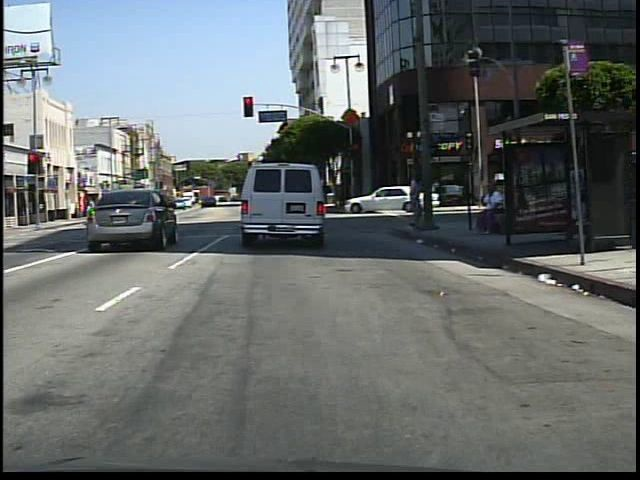person: (475, 181, 508, 238), (403, 171, 425, 233), (82, 193, 98, 221)
